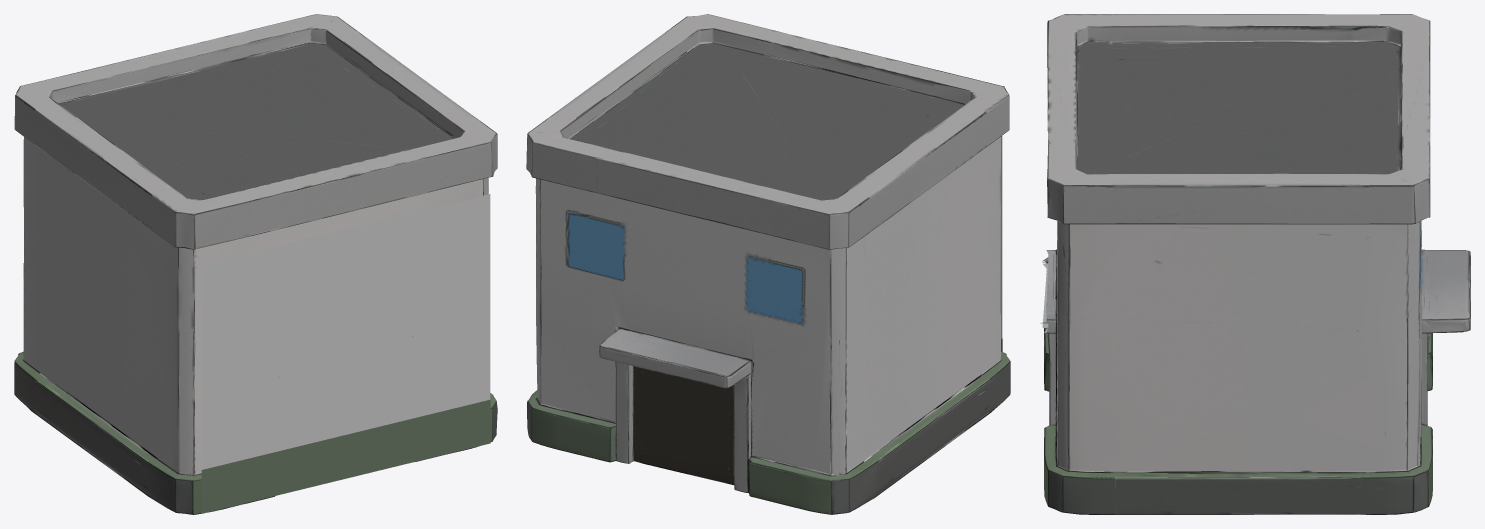
Rendered from building-3-small-rear-fixed.glb.
3 views of the same model, side by side, from view 1: azimuth 30°, elevation 25°; view 2: azimuth 150°, elevation 25°; view 3: azimuth 270°, elevation 25° (orthographic). The views are drawn at different scales.
Bounding box in the file's own units: 0.8511 × 0.7412 × 0.8823.
1 material, 1 textured.
